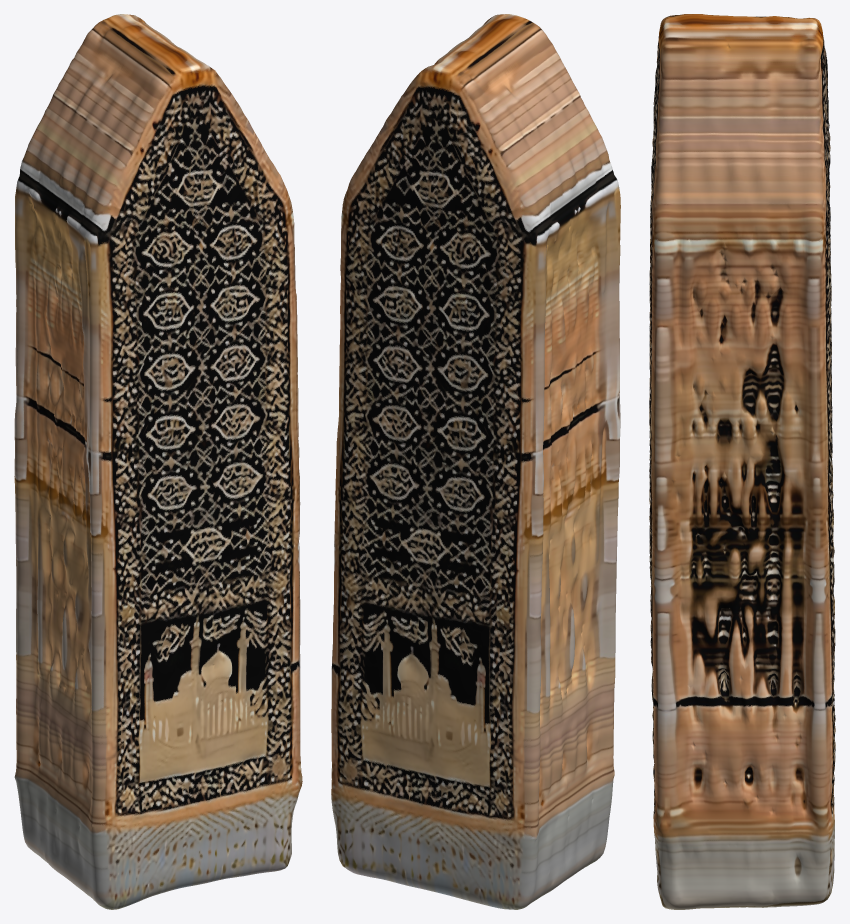
The model's file is kfl-2206.glb.
The picture shows the model from 3 angles, left to right: view 1: azimuth 30°, elevation 25°; view 2: azimuth 150°, elevation 25°; view 3: azimuth 270°, elevation 25°; orthographic projection.
Visible parts, largest first — view 1: kfl-2206; view 2: kfl-2206; view 3: kfl-2206.
Boxes of the visible parts, x1,y1,x2,y2 form: kfl-2206: (14,14,302,909); kfl-2206: (331,14,620,909); kfl-2206: (649,14,835,909).
Bounding box in the file's own units: 0.2682 × 0.9946 × 0.1989.
1 material, 1 textured.
